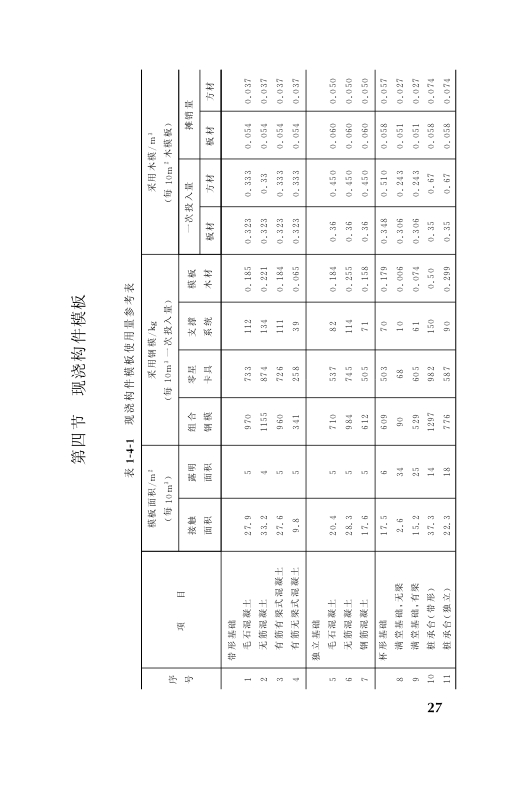table: (141, 68, 456, 689)
